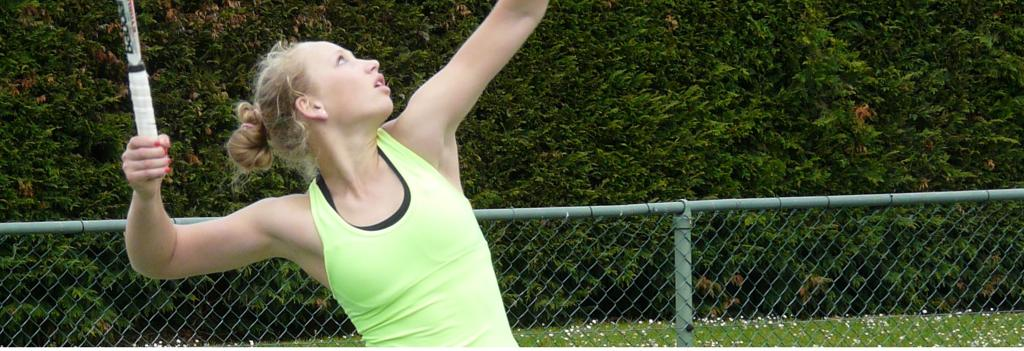face: (290, 38, 396, 110)
